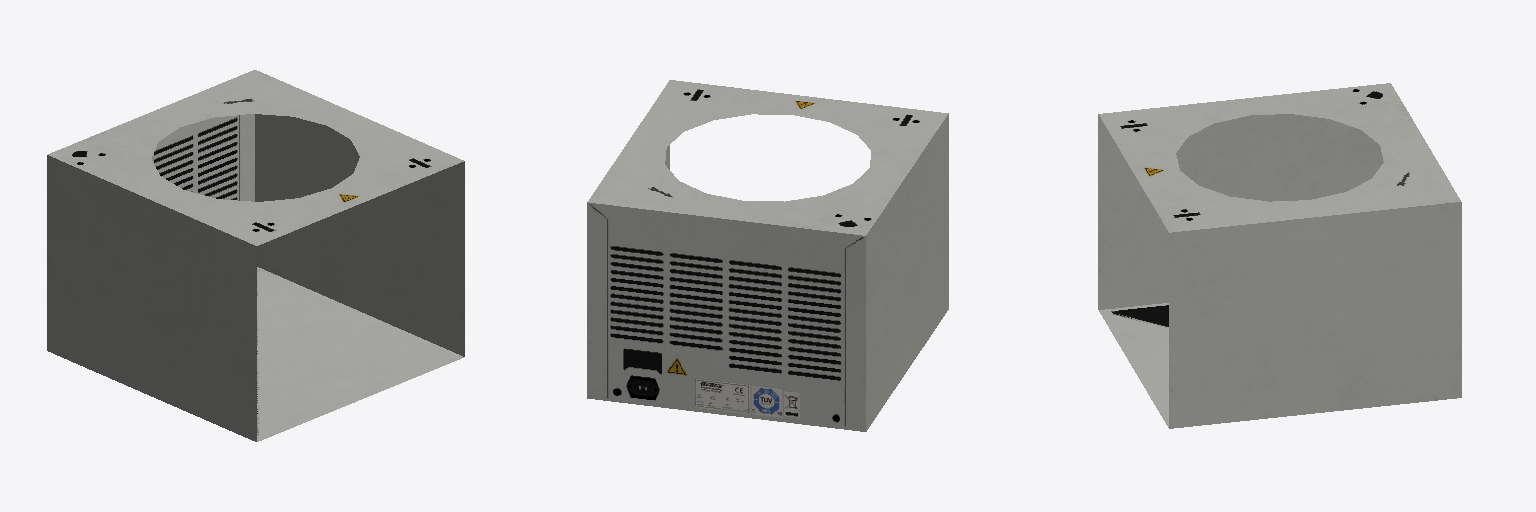
The picture shows the model from 3 angles: view 1: azimuth 30°, elevation 25°; view 2: azimuth 150°, elevation 25°; view 3: azimuth 270°, elevation 25°; orthographic projection.
Parts seen in each view (by area): view 1: body_01_low; view 2: body_01_low; view 3: body_01_low.
Boxes of the visible parts, box(x1,y1,x2,y2) form: body_01_low: box(47, 70, 464, 441); body_01_low: box(587, 80, 948, 431); body_01_low: box(1098, 83, 1461, 428).
Size of the model in its own units: 5.58 by 3.41 by 5.72.
Materials: 1 (1 with a texture image).